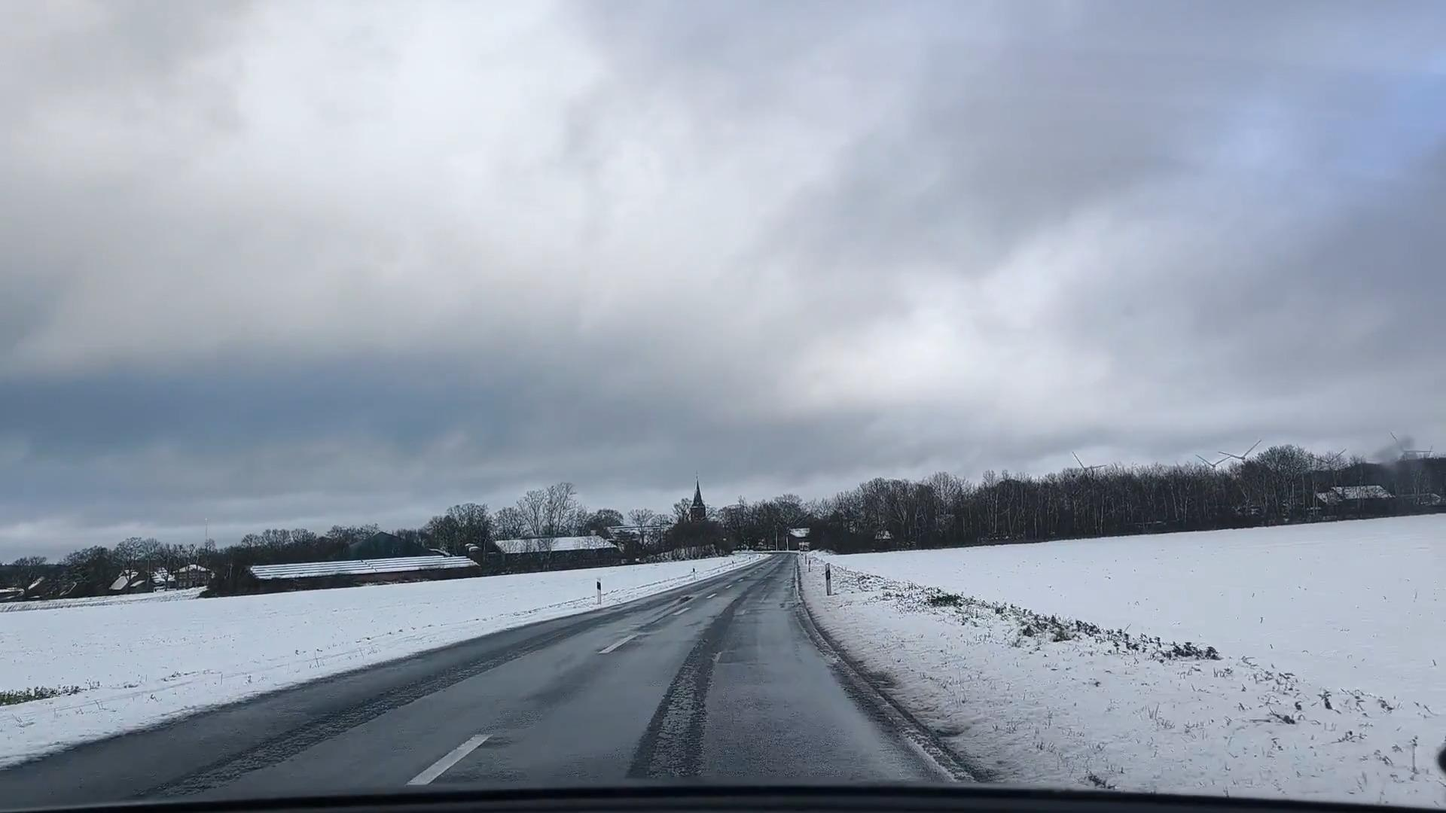Snow: (804, 514, 1446, 804), (0, 560, 760, 765)
ice: (0, 551, 978, 793)
